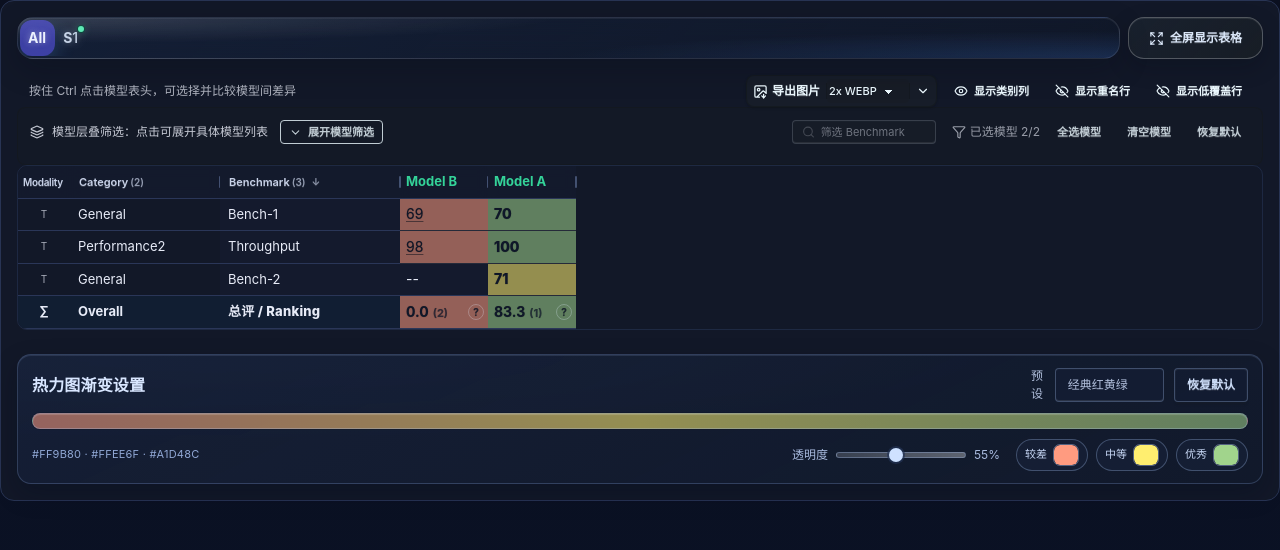
it: BenchmarkMatrix 跨页签模型覆盖 › All 默认隐藏低覆盖时不显示分类为 Performance 的行，开启后恢复
Expected: the text "Latency" is not shown
Expected: the text "Throughput" is shown, [228,238,300,254]
Click the button "显示低覆盖行": (1199, 91) [1147,79,1251,103]
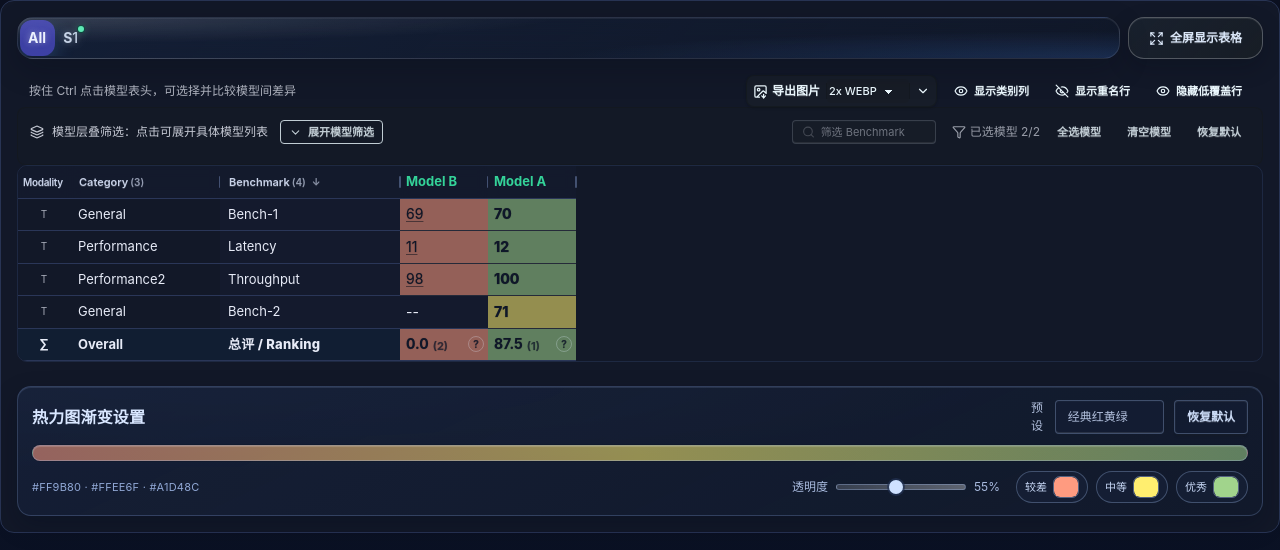
Expected: the text "Throughput" is shown, [228,271,300,287]
Result: the text "Latency" is shown at [228,238,276,254]
